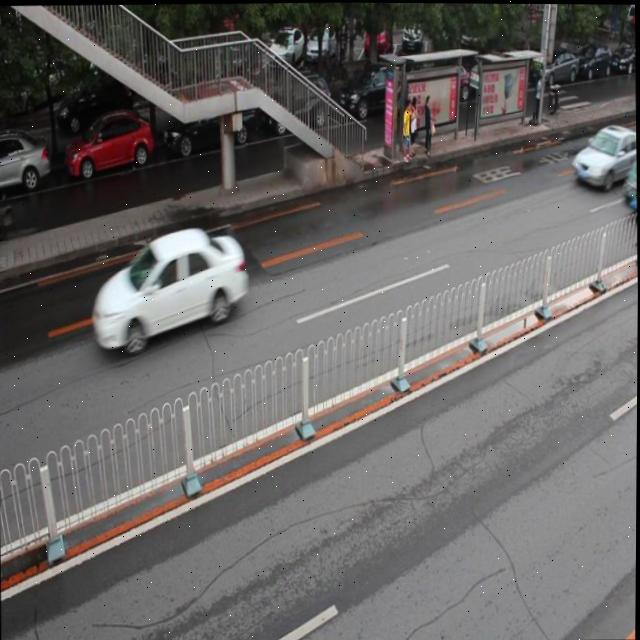car: (92, 223, 250, 353), (65, 111, 155, 180), (165, 94, 256, 153), (570, 118, 637, 183), (338, 62, 406, 121), (262, 77, 330, 132), (0, 128, 49, 194)
truck: (621, 136, 637, 213)
